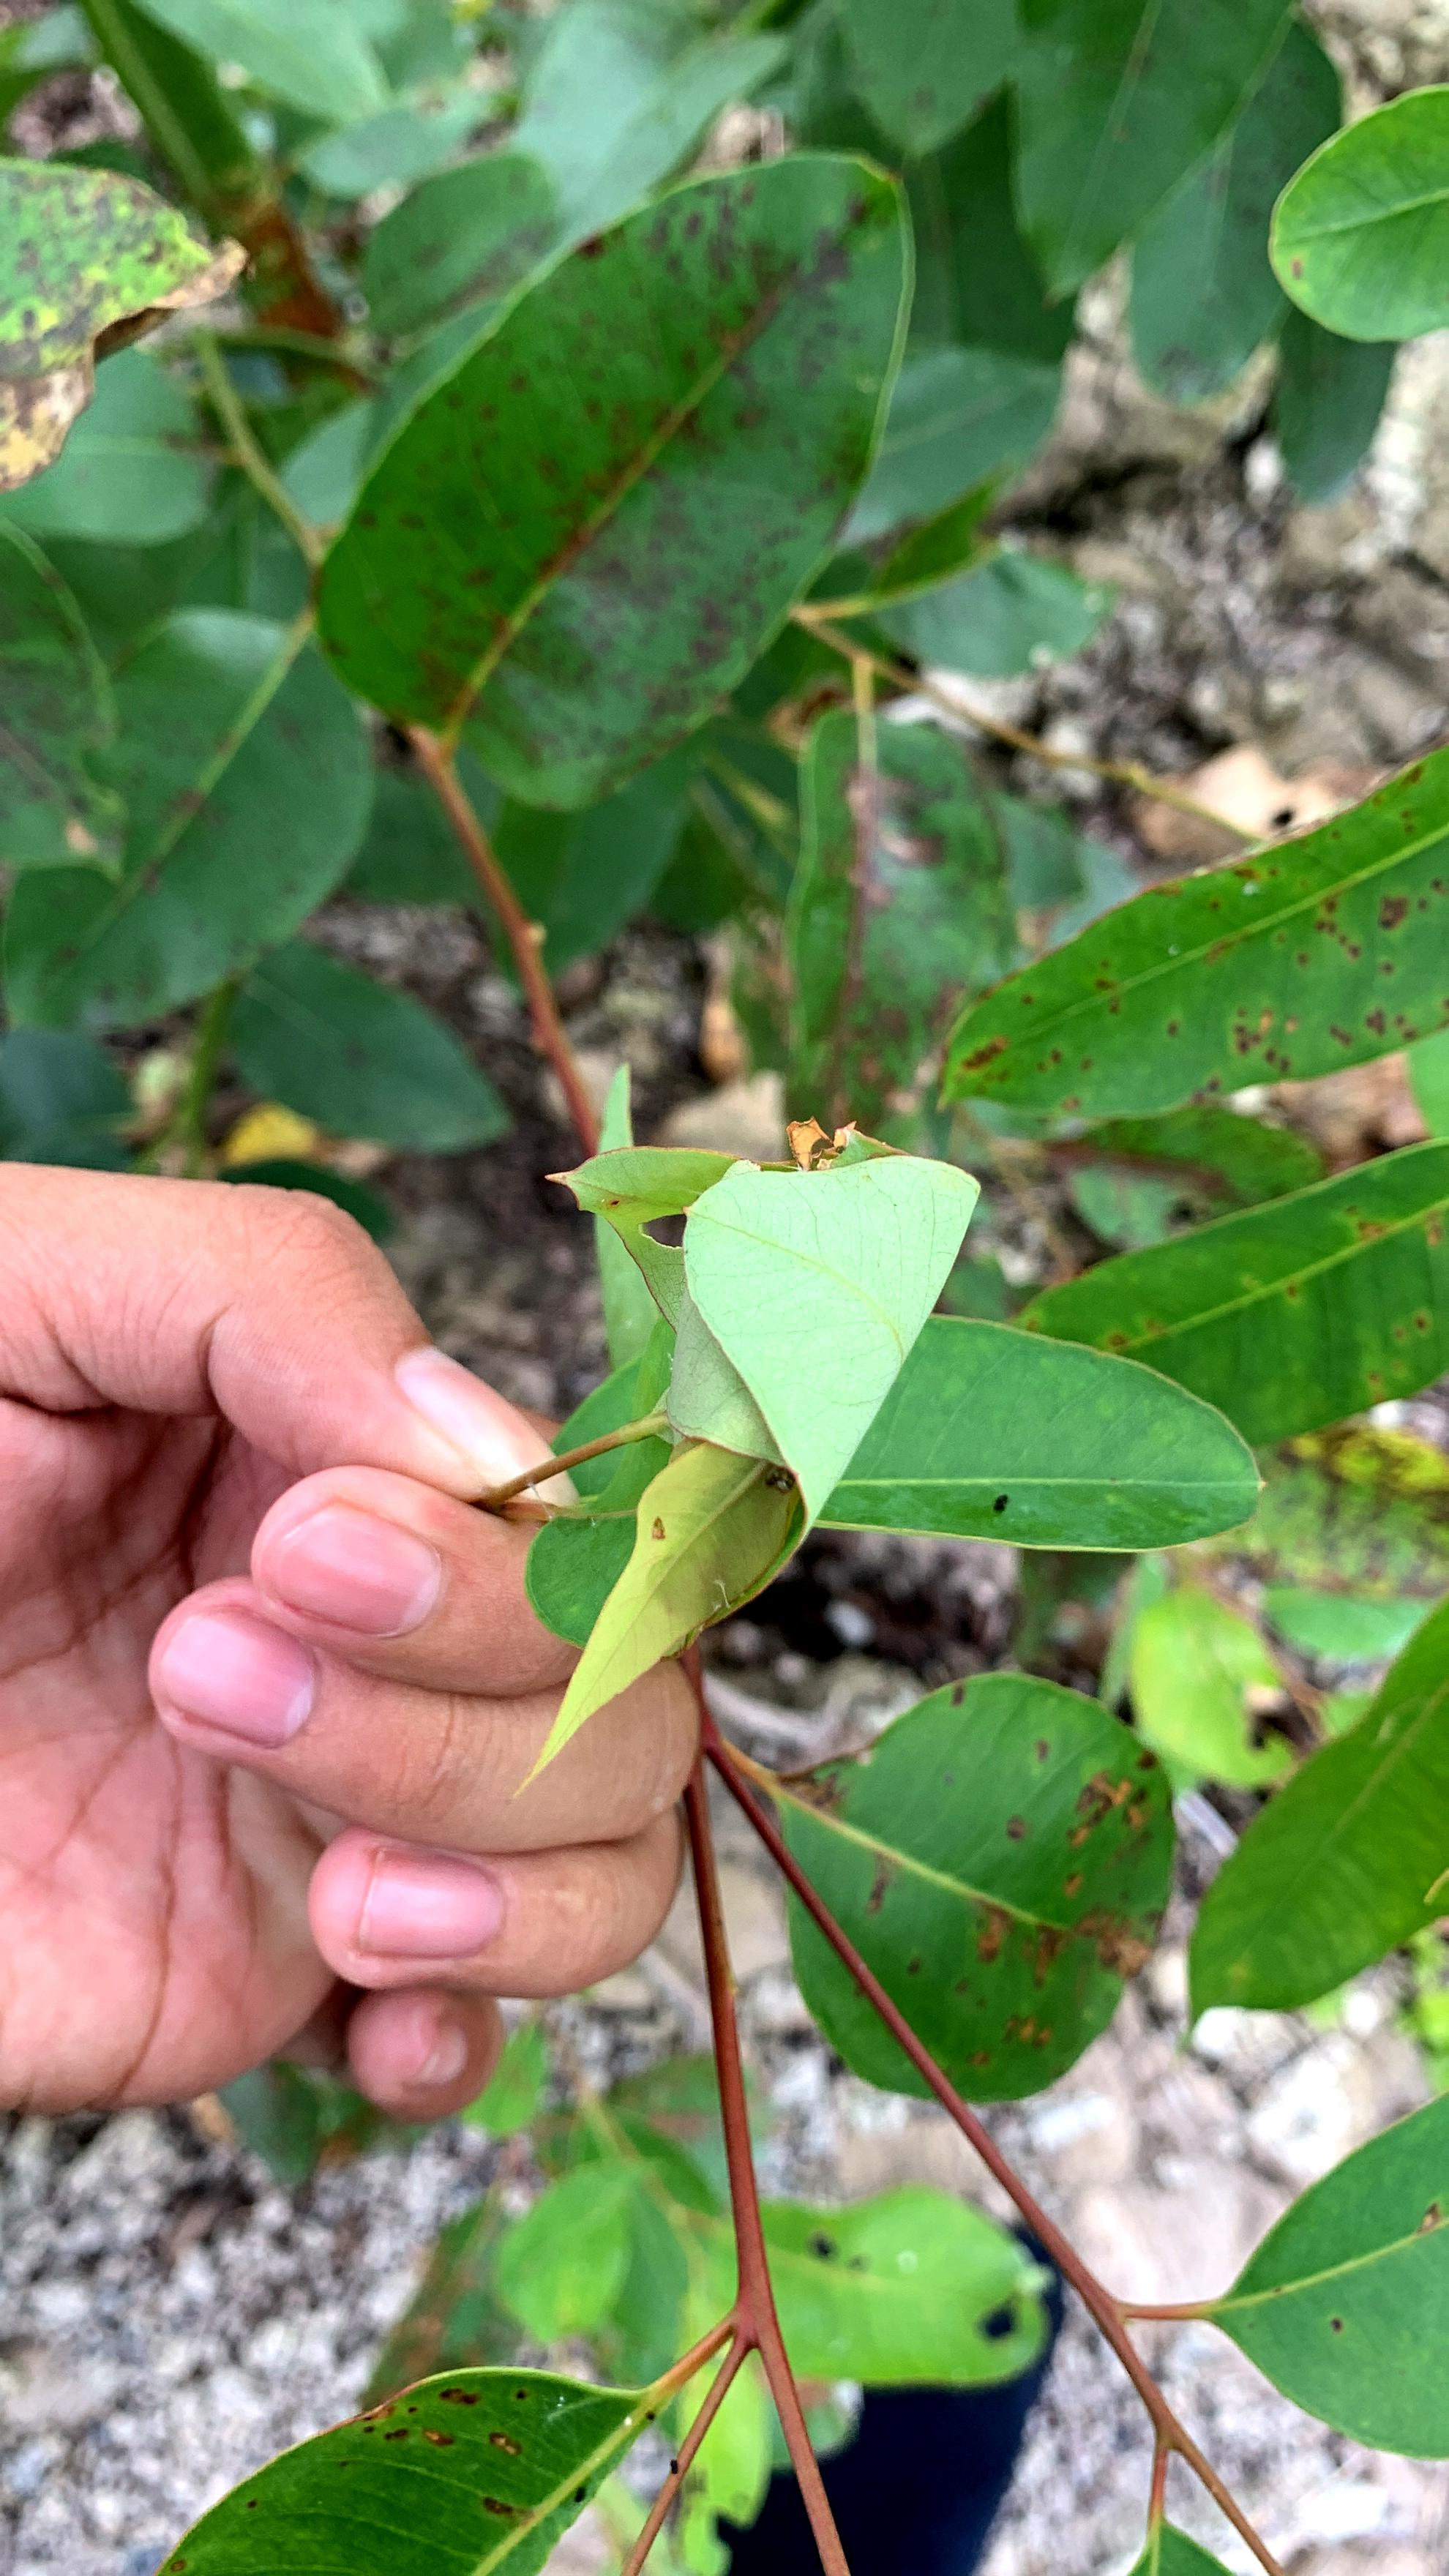Leaf Roller - Leaf: (605, 1175, 978, 1684)
